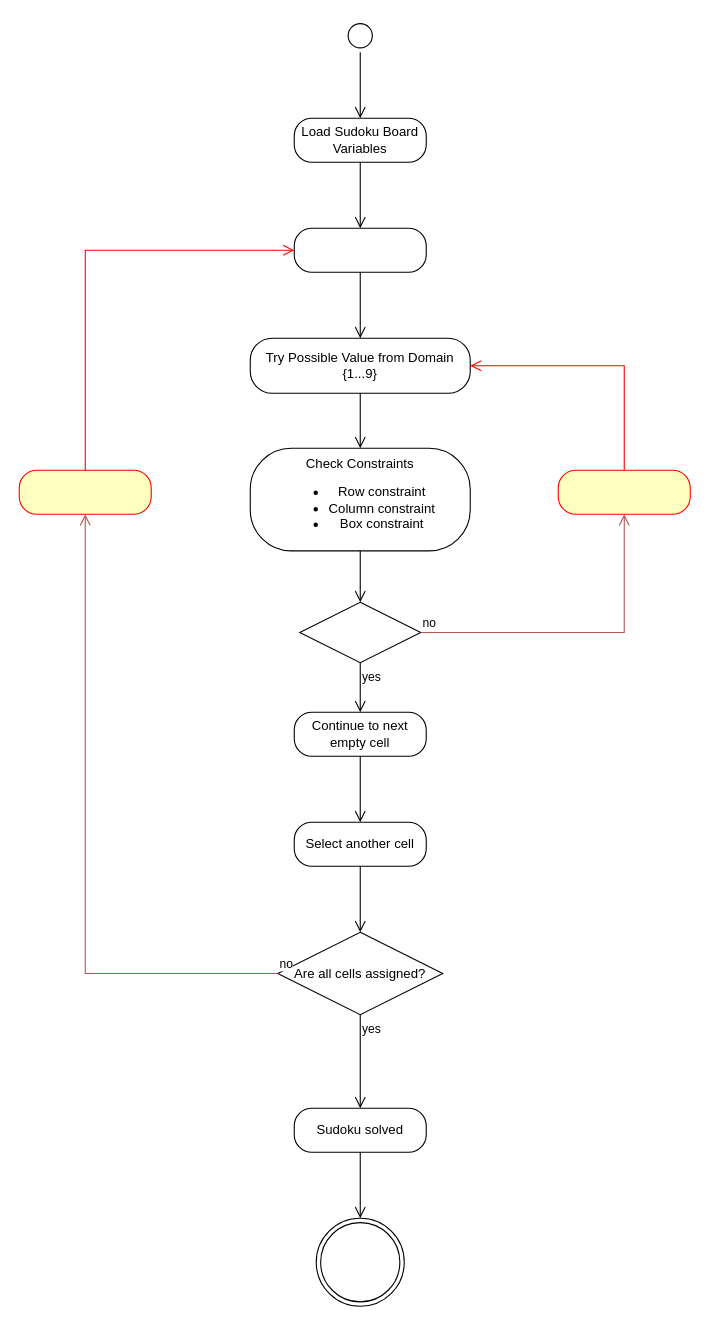
Image size: 710x1326. Some labels were removed from this diagram. The box of each missing label's shape, as (x1, y1, x2, y2) in pixels:
Backtracking: (18, 469, 151, 514)
Contraint pass?: (299, 601, 421, 663)
Reject Value: (557, 469, 690, 514)
Select Next Empty Cell: (293, 227, 426, 272)
